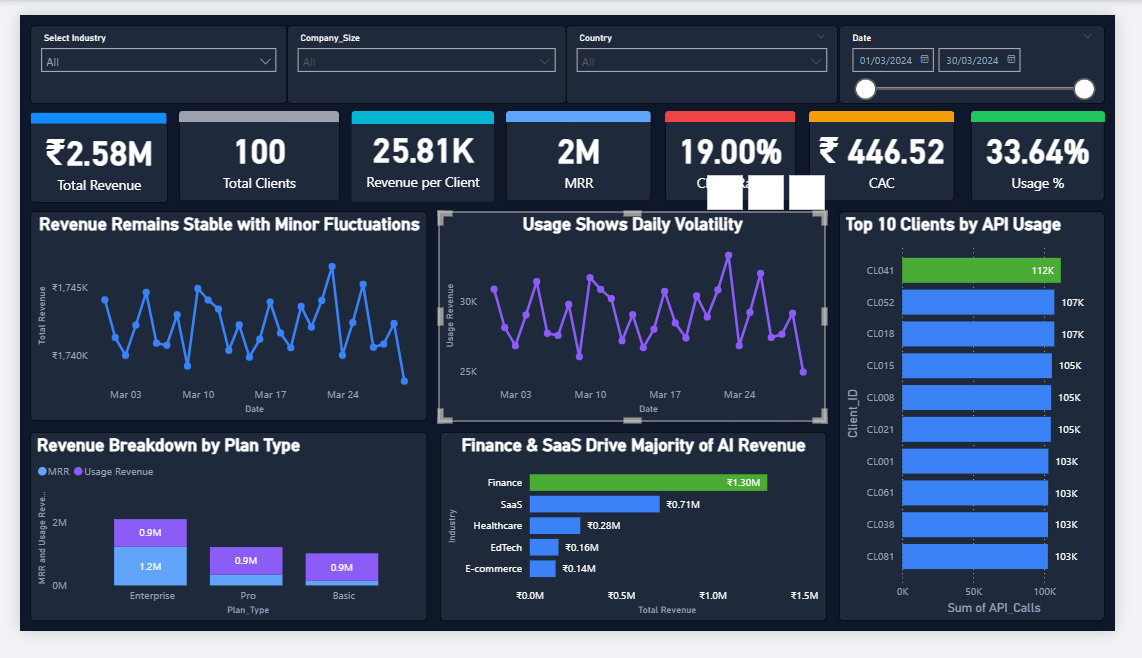

Layout of this report page (visuals, bound fields, positions):
{"tool":"powerbi","page":{"name":"Page 1","canvas":[1280,720],"ordinal":0},"visuals":[{"type":"lineChart","title":"Revenue Remains Stable with Minor Fluctuations","fields":{"Category":["intellicore_api_usage.Date"],"Y":["intellicore_subscriptions.Total Revenue"]},"box":[12.5,230.4,464.3,244.6],"z":0},{"type":"lineChart","title":"Usage Shows Daily Volatility","fields":{"Category":["intellicore_api_usage.Date"],"Y":["intellicore_api_usage.Usage Revenue"]},"box":[489.3,230.4,453.6,244.6],"z":1000},{"type":"columnChart","title":"Revenue Breakdown by Plan Type","fields":{"Category":["intellicore_subscriptions.Plan_Type"],"Y":["intellicore_subscriptions.MRR","intellicore_api_usage.Usage Revenue"]},"box":[12.5,487.5,464.3,221.4],"z":2000},{"type":"clusteredBarChart","title":"Finance & SaaS Drive Majority of AI Revenue","fields":{"Category":["intellicore_clients.Industry"],"Y":["intellicore_subscriptions.Total Revenue"]},"box":[491.1,487.5,451.8,221.4],"z":3000},{"type":"clusteredBarChart","title":"Top 10 Clients by API Usage","fields":{"Category":["intellicore_api_usage.Client_ID"],"Y":["Sum(intellicore_api_usage.API_Calls)"]},"box":[957.1,230.4,310.7,478.6],"z":4000},{"type":"slicer","fields":{"Values":["intellicore_clients.Industry"]},"box":[12.5,12.5,300,91.1],"z":5000},{"type":"slicer","fields":{"Values":["intellicore_clients.Company_Size"]},"box":[312.5,12.5,326.8,91.1],"z":6000},{"type":"slicer","fields":{"Values":["intellicore_clients.Country"]},"box":[639.3,12.5,317.9,91.1],"z":7000},{"type":"slicer","fields":{"Values":["intellicore_api_usage.Date"]},"box":[959.1,12.1,310.6,90.9],"z":8000},{"type":"group","id":"g1","title":"Group 1","box":[11.8,113.7,158.8,105.9],"z":9000},{"type":"card","fields":{"Values":["intellicore_clients.Total Clients"]},"box":[186.3,115.8,188.2,101.8],"z":9000,"group":"g6"},{"type":"card","fields":{"Values":["intellicore_subscriptions.Total Revenue"]},"box":[12,117.8,160.6,101.8],"z":9000,"group":"g1"},{"type":"group","id":"g2","title":"Group 2","box":[568.6,111.8,170.6,105.9],"z":10000},{"type":"card","fields":{"Values":["intellicore_subscriptions.MRR"]},"box":[568.8,115.8,170.2,101.9],"z":10000,"group":"g2"},{"type":"shape","box":[186.3,111.8,187.2,13.1],"z":11000,"group":"g6"},{"type":"group","id":"g3","title":"Group 3","box":[754.9,111.8,152.9,105.9],"z":11000},{"type":"card","fields":{"Values":["intellicore_subscriptions.Churn Rate"]},"box":[755.1,115.8,152.8,101.9],"z":11000,"group":"g3"},{"type":"group","id":"g4","title":"Group 4","box":[923.5,111.8,170.6,105.9],"z":12000},{"type":"card","fields":{"Values":["Intellicore_Marketing.CAC"]},"box":[923.5,115.8,170.2,101.9],"z":12000,"group":"g4"},{"type":"group","id":"g5","title":"Group 5","box":[1111.8,111.8,156.9,105.9],"z":13000},{"type":"card","fields":{"Values":["intellicore_api_usage.Usage %"]},"box":[1111.8,115.8,156.2,101.9],"z":13000,"group":"g5"},{"type":"group","id":"g6","title":"Group 6","box":[186.3,111.8,186.3,105.9],"z":14000},{"type":"shape","box":[11.8,113.7,159.4,13.2],"z":14001,"group":"g1"},{"type":"shape","box":[568.6,111.8,169.3,13.1],"z":14002,"group":"g2"},{"type":"shape","box":[754.9,111.8,152.8,13.1],"z":14003,"group":"g3"},{"type":"shape","box":[923.9,111.8,170.2,13.1],"z":14006,"group":"g4"},{"type":"shape","box":[1111.8,111.8,156.8,13.1],"z":14008,"group":"g5"},{"type":"card","fields":{"Values":["intellicore_clients.Revenue per Client"]},"box":[388.3,111.8,166.7,105.9],"z":15000,"group":"g7"},{"type":"shape","box":[387.9,112.2,166.7,15.2],"z":15001,"group":"g7"},{"type":"group","id":"g7","title":"Group 7","box":[387.9,111.8,167,105.9],"z":15002}]}

Visuals, with their boxes in screenshot pixels (x1, y1, x2, y2), scaled from the page's 1280x720 canvas onto the 1142x658 screenshot:
"Revenue Remains Stable with Minor Fluctuations" lineChart: locate(11, 211, 425, 434)
"Usage Shows Daily Volatility" lineChart: locate(437, 211, 841, 434)
"Revenue Breakdown by Plan Type" columnChart: locate(11, 446, 425, 648)
"Finance & SaaS Drive Majority of AI Revenue" clusteredBarChart: locate(438, 446, 841, 648)
"Top 10 Clients by API Usage" clusteredBarChart: locate(854, 211, 1131, 648)
slicer - intellicore_clients.Industry: locate(11, 11, 279, 95)
slicer - intellicore_clients.Company_Size: locate(279, 11, 570, 95)
slicer - intellicore_clients.Country: locate(570, 11, 854, 95)
slicer - intellicore_api_usage.Date: locate(856, 11, 1133, 94)
"Group 1" group: locate(11, 104, 152, 201)
card - intellicore_clients.Total Clients: locate(166, 106, 334, 199)
card - intellicore_subscriptions.Total Revenue: locate(11, 108, 154, 201)
"Group 2" group: locate(507, 102, 660, 199)
card - intellicore_subscriptions.MRR: locate(507, 106, 659, 199)
shape: locate(166, 102, 333, 114)
"Group 3" group: locate(674, 102, 810, 199)
card - intellicore_subscriptions.Churn Rate: locate(674, 106, 810, 199)
"Group 4" group: locate(824, 102, 976, 199)
card - Intellicore_Marketing.CAC: locate(824, 106, 976, 199)
"Group 5" group: locate(992, 102, 1132, 199)
card - intellicore_api_usage.Usage %: locate(992, 106, 1131, 199)
"Group 6" group: locate(166, 102, 332, 199)
shape: locate(11, 104, 153, 116)
shape: locate(507, 102, 658, 114)
shape: locate(674, 102, 810, 114)
shape: locate(824, 102, 976, 114)
shape: locate(992, 102, 1132, 114)
card - intellicore_clients.Revenue per Client: locate(346, 102, 495, 199)
shape: locate(346, 103, 495, 116)
"Group 7" group: locate(346, 102, 495, 199)
